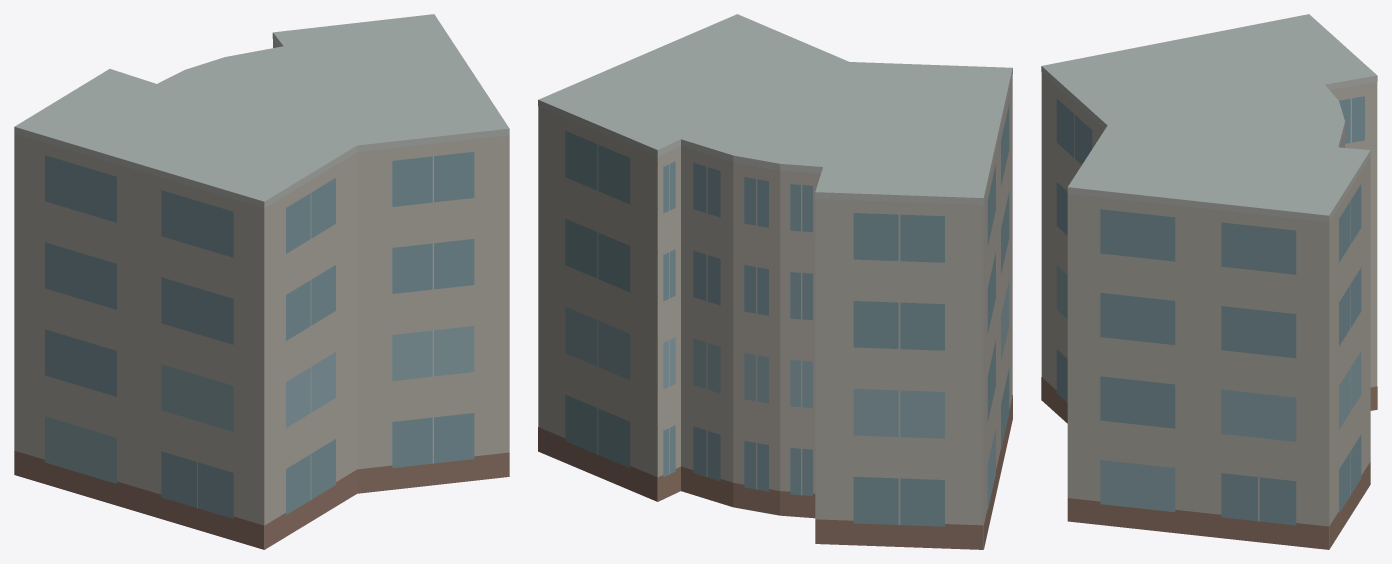
The model's file is survey-upis-32549133.glb.
3 renders of one model, left to right at view 1: azimuth 30°, elevation 25°; view 2: azimuth 150°, elevation 25°; view 3: azimuth 270°, elevation 25°, orthographic. The views are drawn at different scales.
Parts seen in each view (by area): view 1: survey-upis-32549133.tmp; view 2: survey-upis-32549133.tmp; view 3: survey-upis-32549133.tmp.
Boxes of the visible parts, x1,y1,x2,y2 form: survey-upis-32549133.tmp: (14,14,509,549); survey-upis-32549133.tmp: (538,14,1012,549); survey-upis-32549133.tmp: (1041,14,1377,549).
Size of the model in its own units: 16.57 by 12.8 by 11.67.
